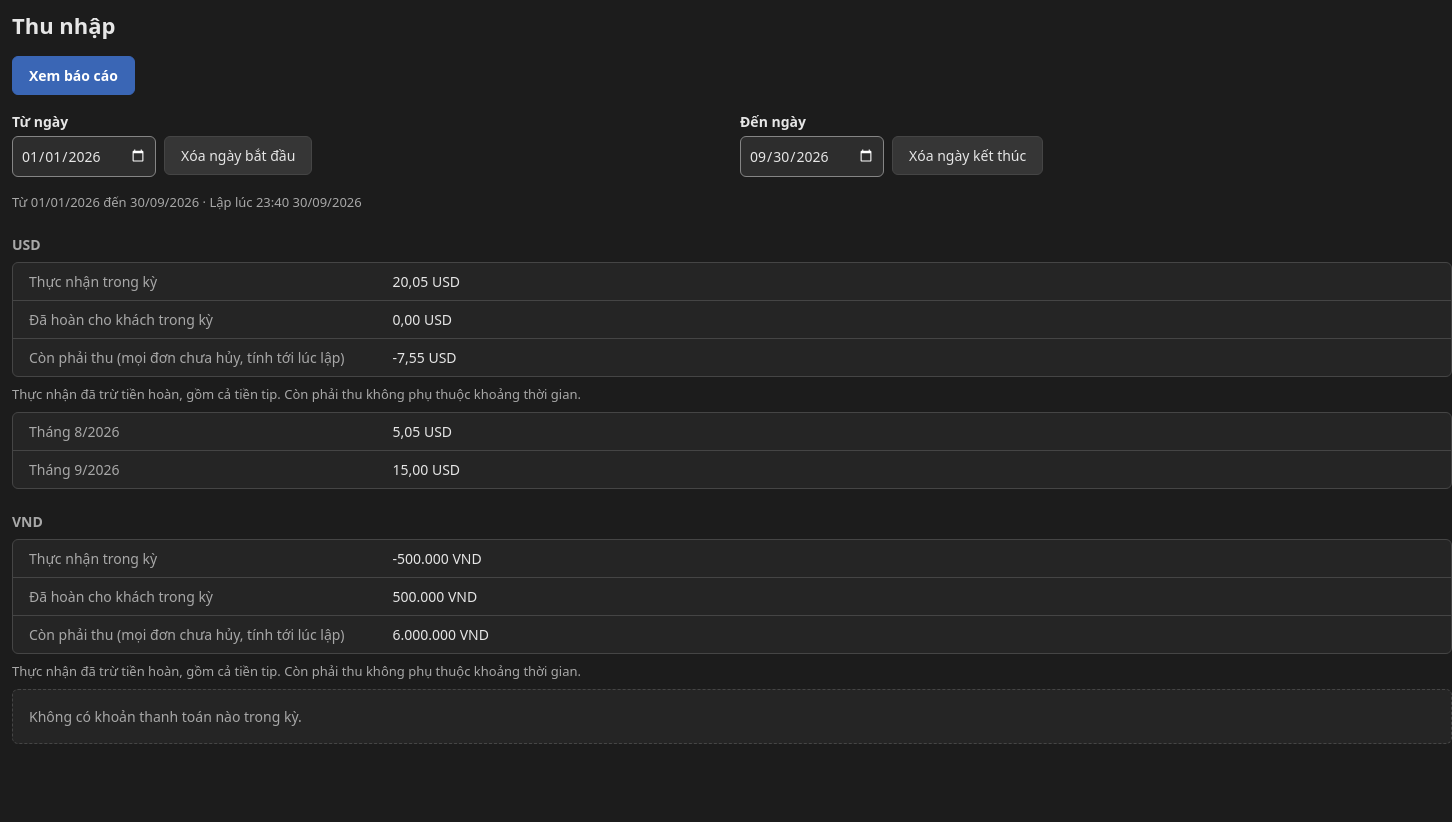
Test: page income_report — the report › "Xem báo cáo" sends the fields as they are and replaces the report with the new one
The image size is (1452, 822).
Type "2025-01-01" into the date field labelled "Từ ngày".
click(84, 156); type("2025-01-01")  # box [12,136,156,176]
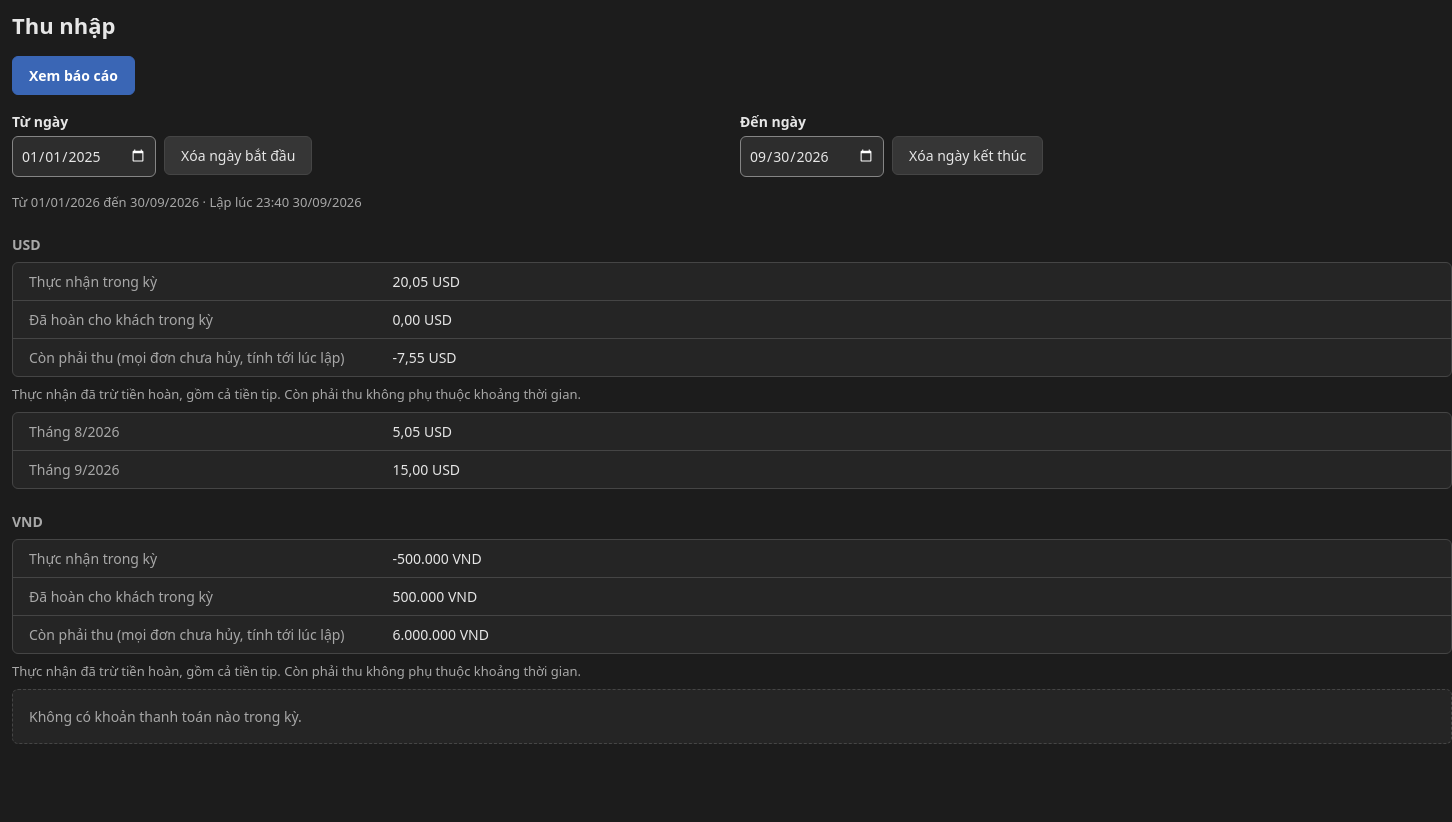
Type "2025-12-31" into the date field labelled "Đến ngày".
click(812, 156); type("2025-12-31")  # box [740,136,884,176]
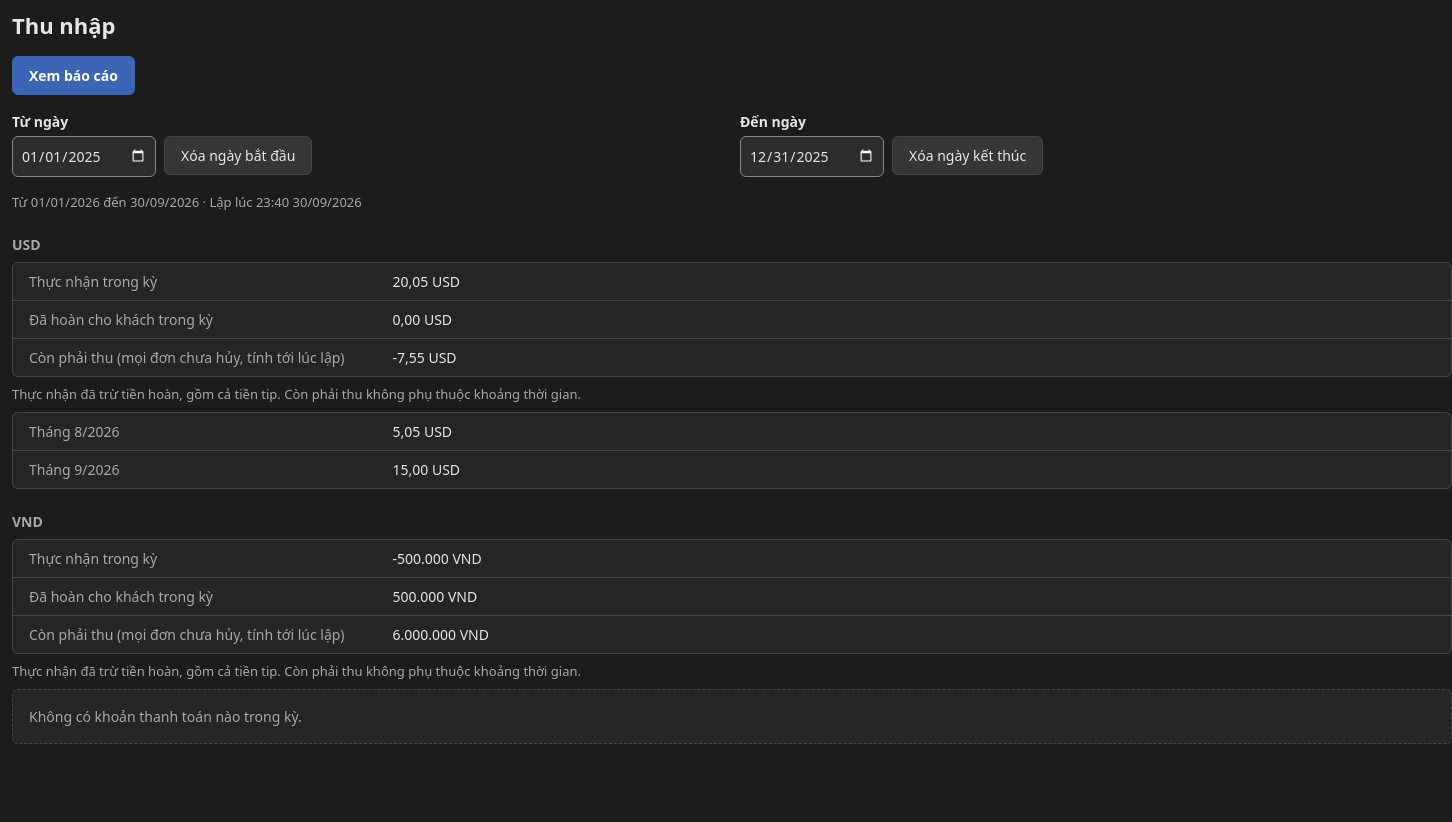
Click the button "Xem báo cáo".
click(74, 75)  # box [12,56,135,94]
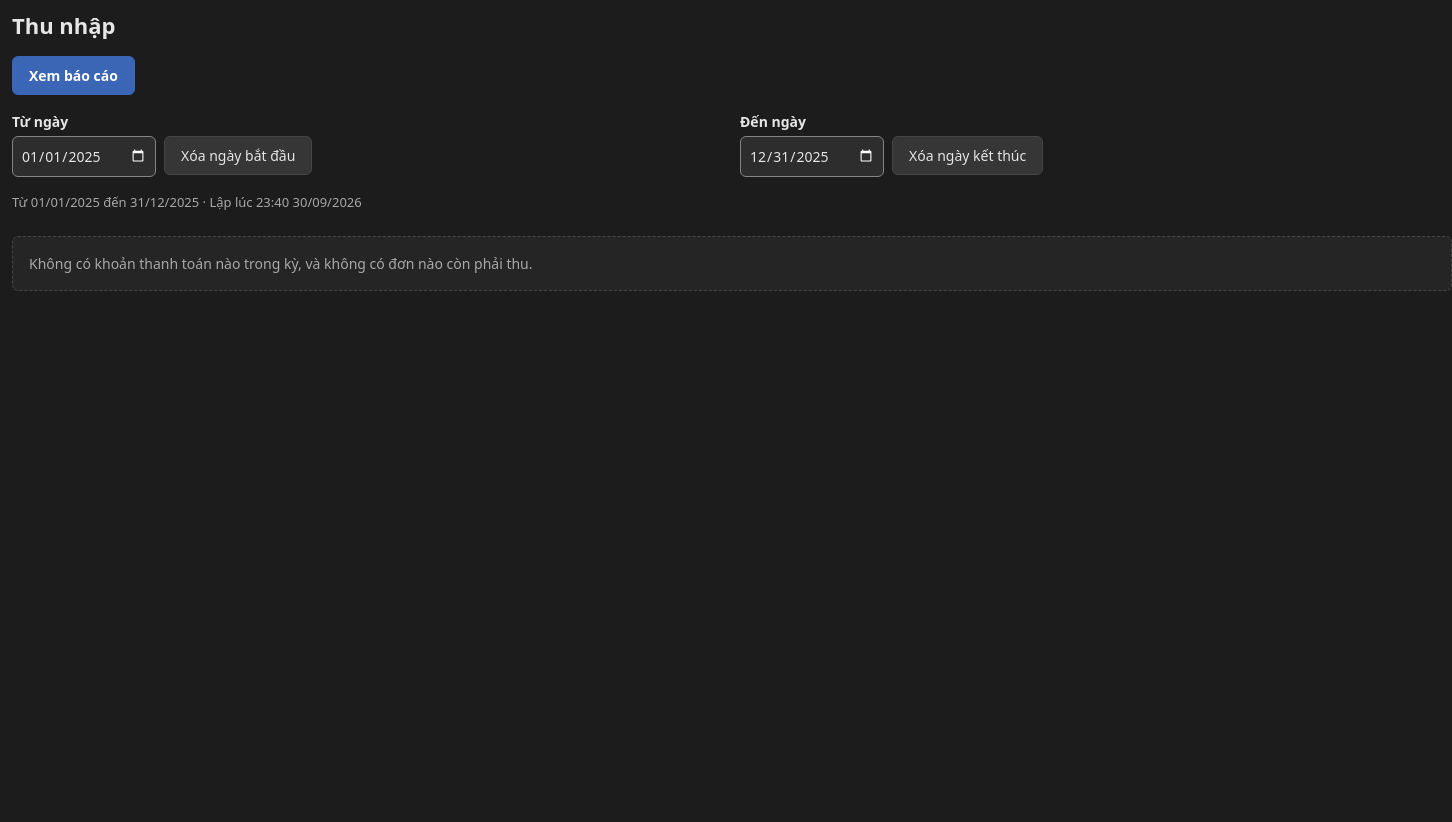
Check: the text "Không có khoản thanh toán nào trong kỳ, và không có đơn nào còn phải thu." is shown, box [29,253,532,274]
Check: the heading "USD" is gone
Check: the text "Từ 01/01/2025 đến 31/12/2025 · Lập lúc 23:40 30/09/2026" is shown, box [12,192,362,210]
